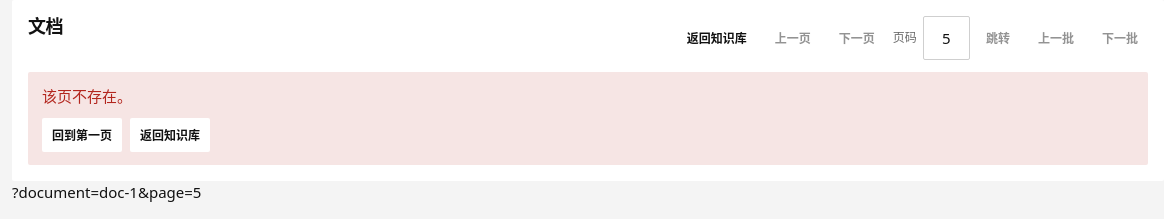
Test: DocumentReader › rejects a page beyond page_count instead of showing another page
The width and height of the screenshot is (1164, 219).
Check: the text "该页不存在。" is shown, box [42,86,132,106]
Click the button "回到第一页" at (82, 134), box [42,118,122,152]
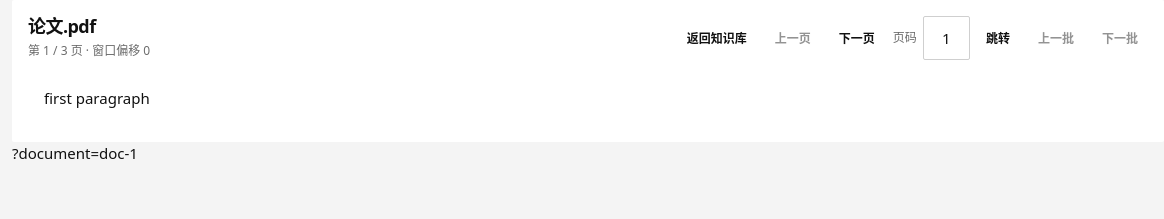
Check: the text "first paragraph" is shown, box [44,88,150,108]
